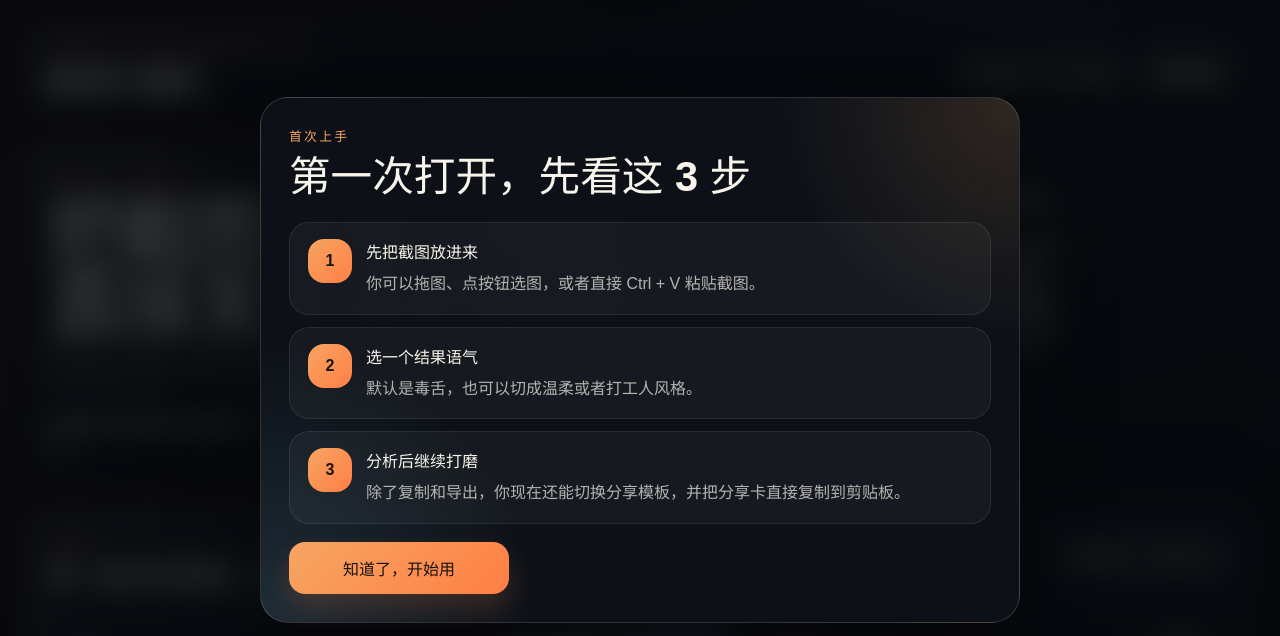
Scenario: App › supports batch archiving the visible history set
Click the button "知道了，开始用": (399,568) [289,542,509,594]
(page scrolled)
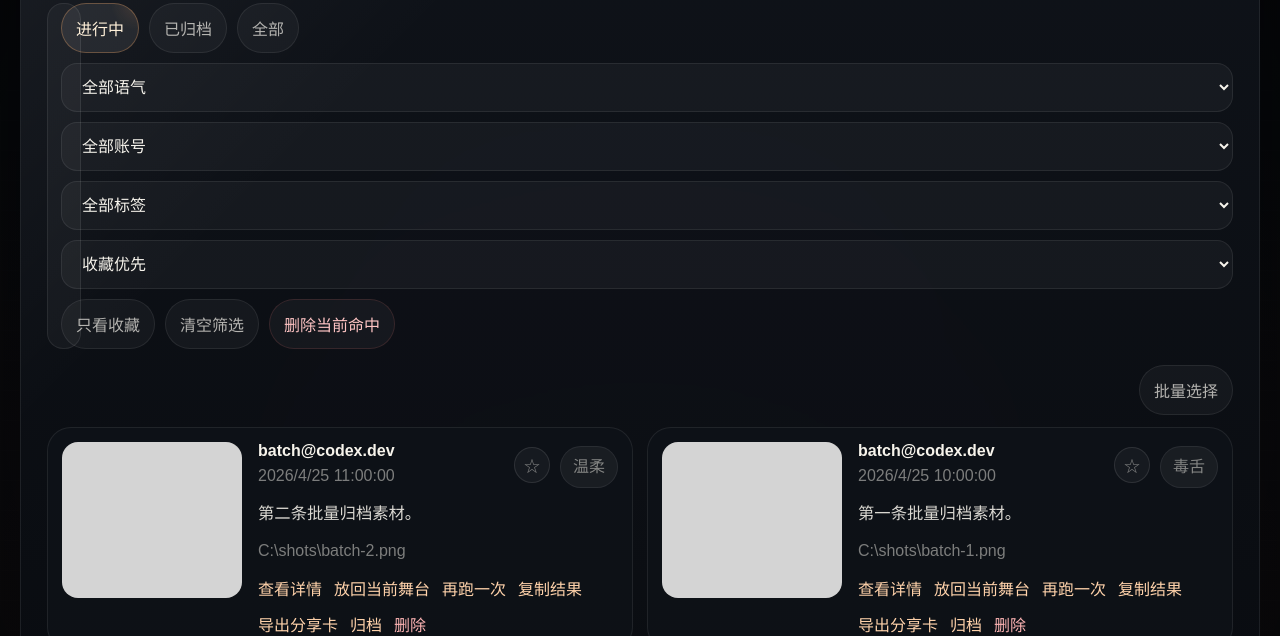
Check: the heading "第一次打开" is gone
Click the button "批量选择": (1186,390) [1139,364,1233,414]
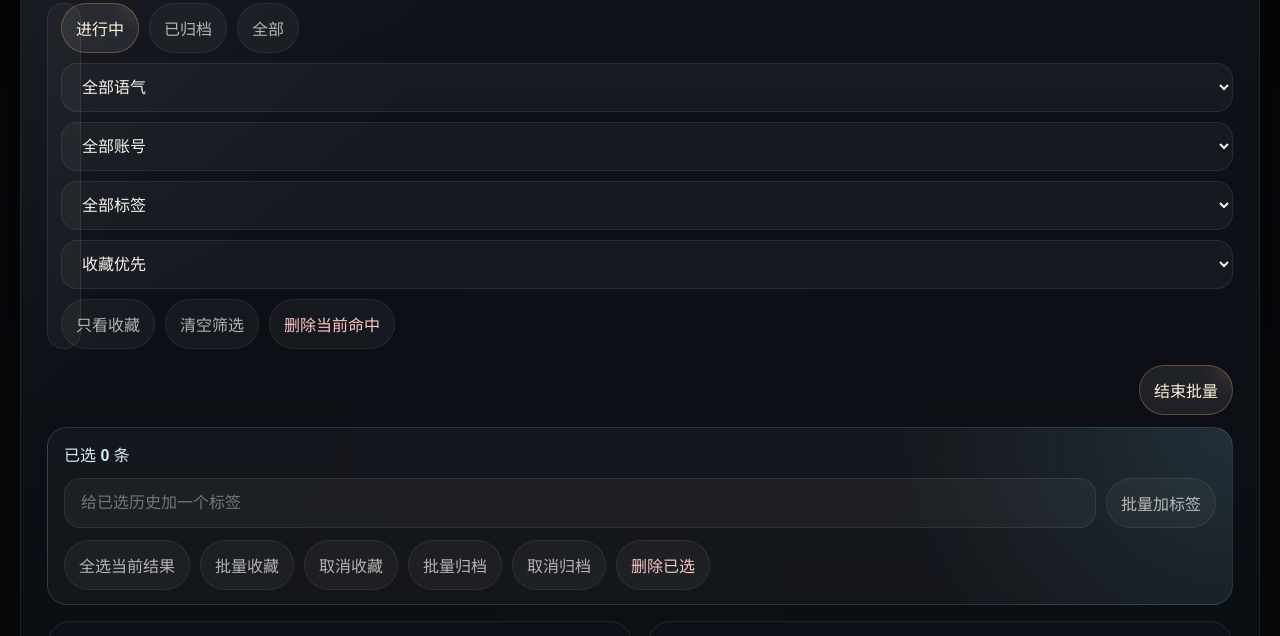
Click the button "全选当前结果": (127,564) [64,540,190,590]
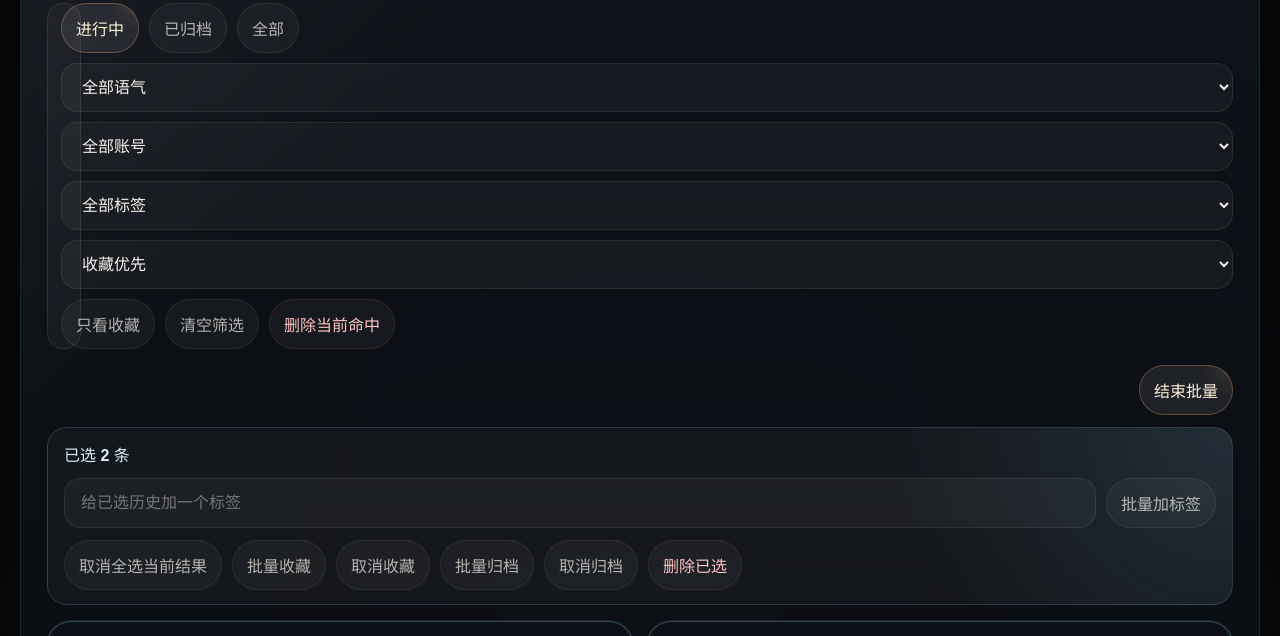
Check: the text "已选 2 条" is shown, box [64,446,130,464]
Click the button "批量归档": (487,564) [440,540,534,590]
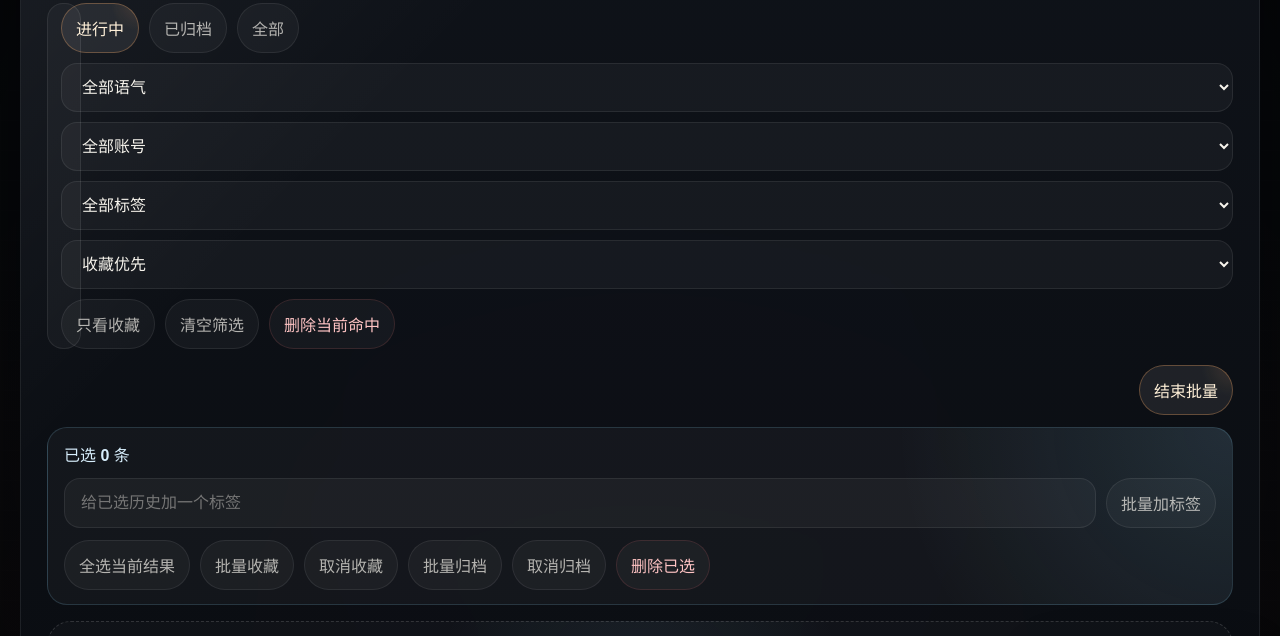
Click the button "已归档": (188,28) [149,2,227,52]
(page scrolled)
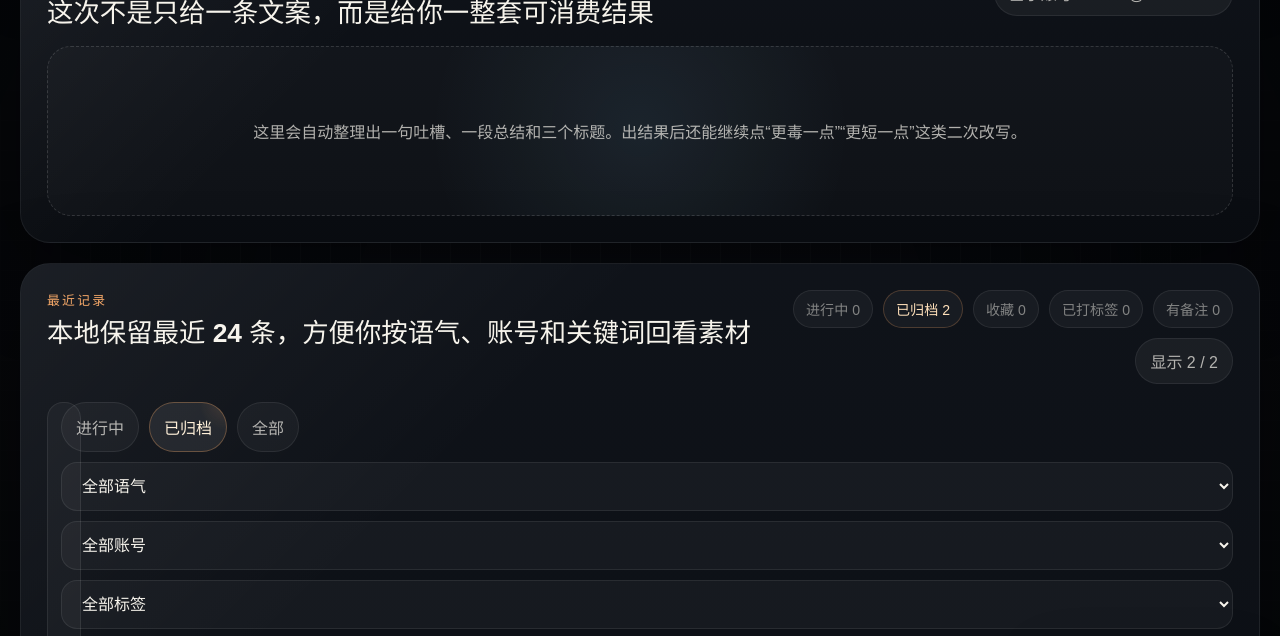
Check: the text "显示 2 / 2" is shown, box [1135,338,1233,384]
